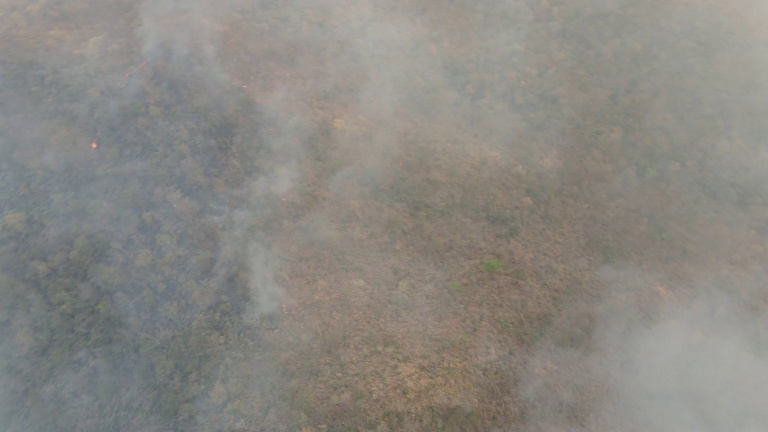fire: (115, 58, 156, 86), (89, 131, 105, 159), (233, 76, 252, 95)
smoke: (1, 1, 367, 429), (372, 1, 768, 146), (497, 222, 768, 430)
